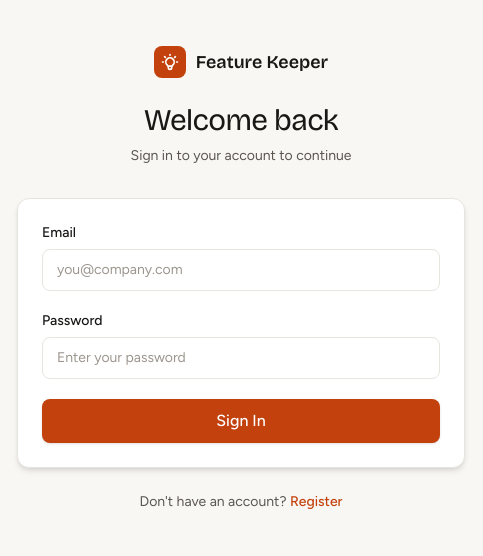
Test: LoginPage › shows error on failed login
Step 1. Type "t@t.com" into the field labelled "Email" → [241, 270], box [42, 249, 440, 291]
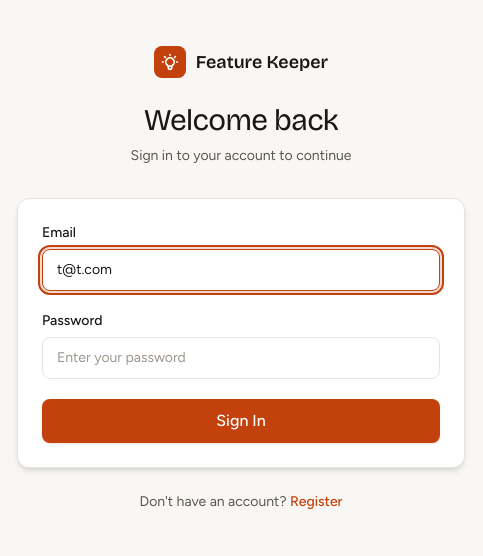
Step 2. Type "wrong" into the password field labelled "Password" → [241, 358], box [42, 337, 440, 379]
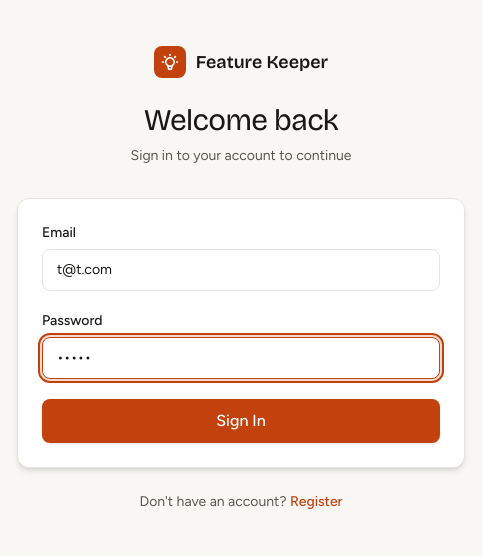
Step 3. Click the button "Sign In" → [241, 421], box [42, 399, 440, 443]
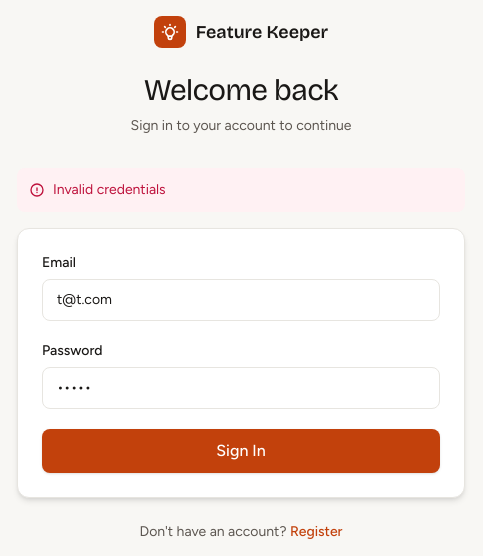
Check: the text "Invalid credentials" is shown, box [17, 168, 465, 212]
